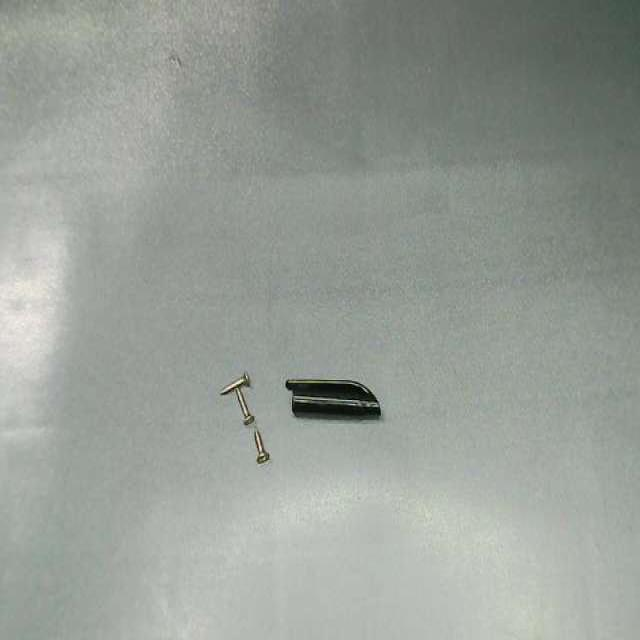Parafuso: (219, 369, 254, 395), (256, 425, 272, 464), (239, 387, 254, 424)
